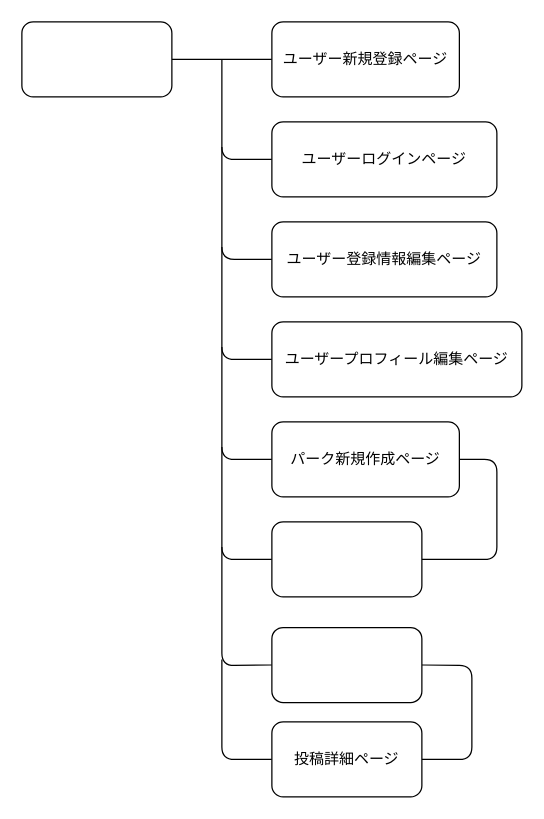
Some shapes in this 544 by 819 pixel diagram are drawn without their labels. The centre of each missing label's shape, as x and y in pixels:
パーク編集ページ: the point at 346,559
一覧ページ: the point at 96,59
新規投稿ページ: the point at 346,664
